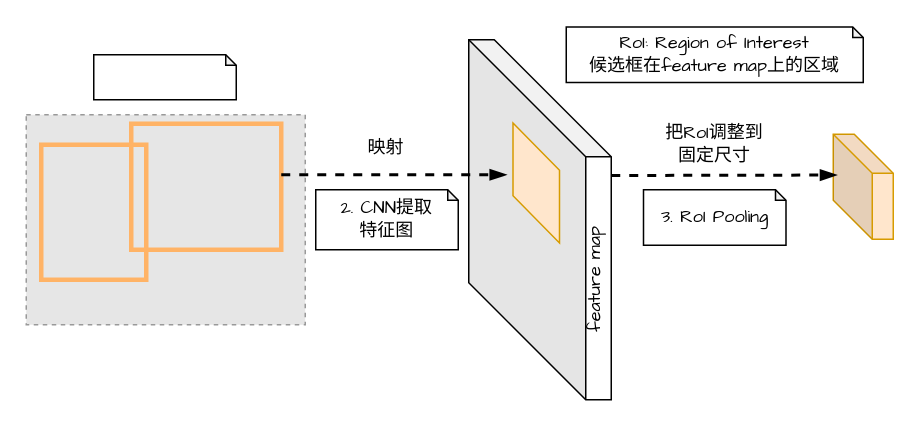
Some shapes in this 920 by 426 pixel diagram are drawn without their labels. Grey dashed boxes stand in for pictures. Here are the shapes that lost their labels. From the top down, the box of each, then its label:
(92, 53, 236, 100): 1. 提取候选框
(512, 122, 560, 243): RoI
